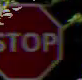Stop: (0, 4, 65, 77)
